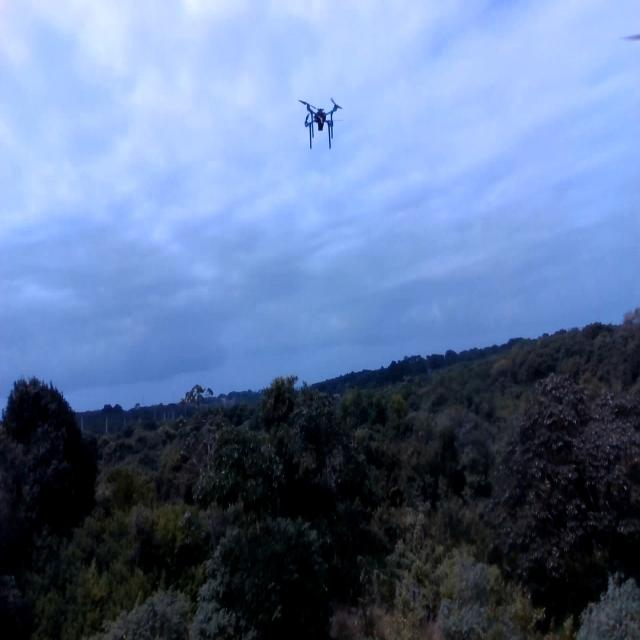-uav-: (292, 72, 352, 164)
